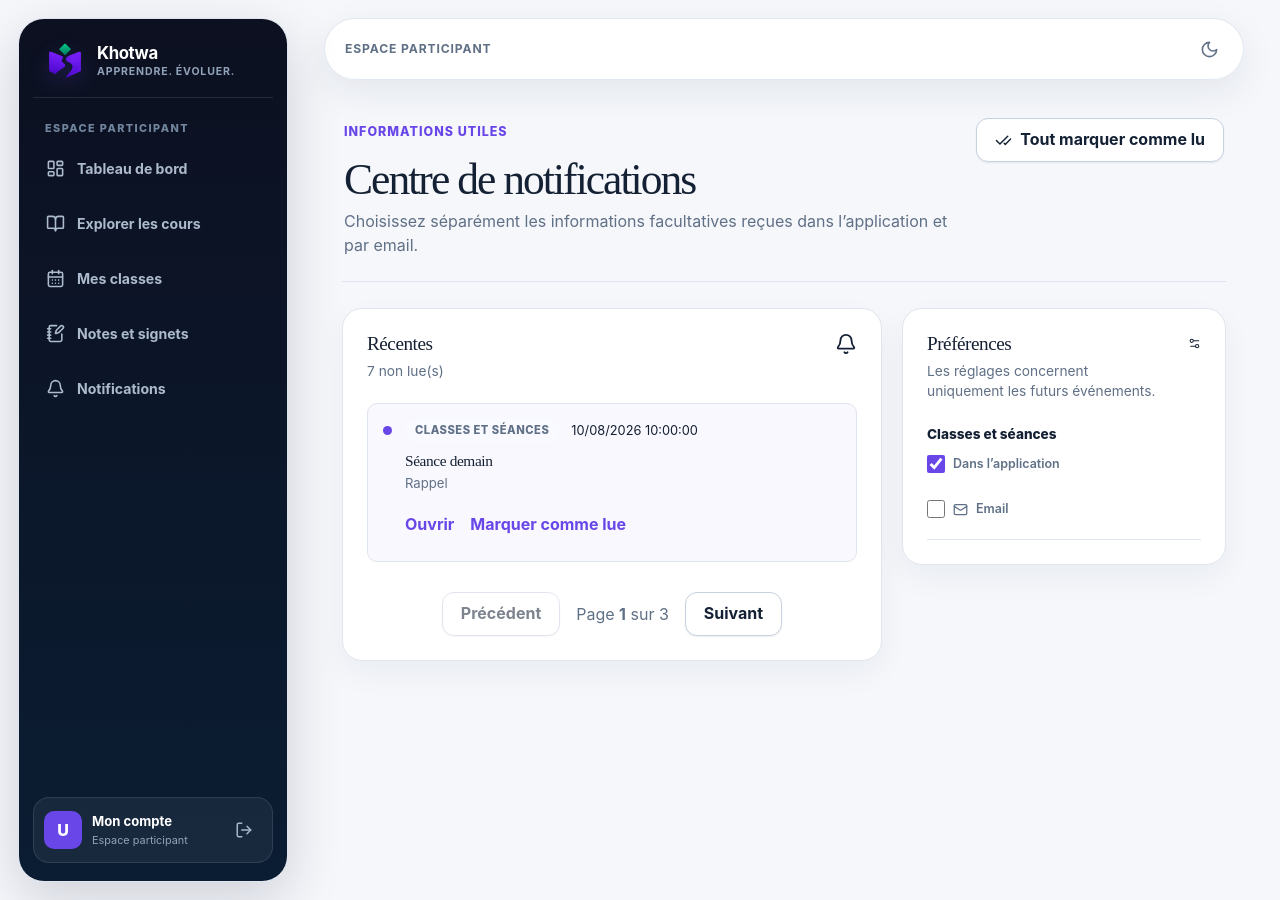
Test: centre de notifications › parcourt la page suivante, la dernière page et revient à la précédente
Click the button "Suivant". click: [733, 614]
box: x1=685 y1=592 x2=782 y2=636
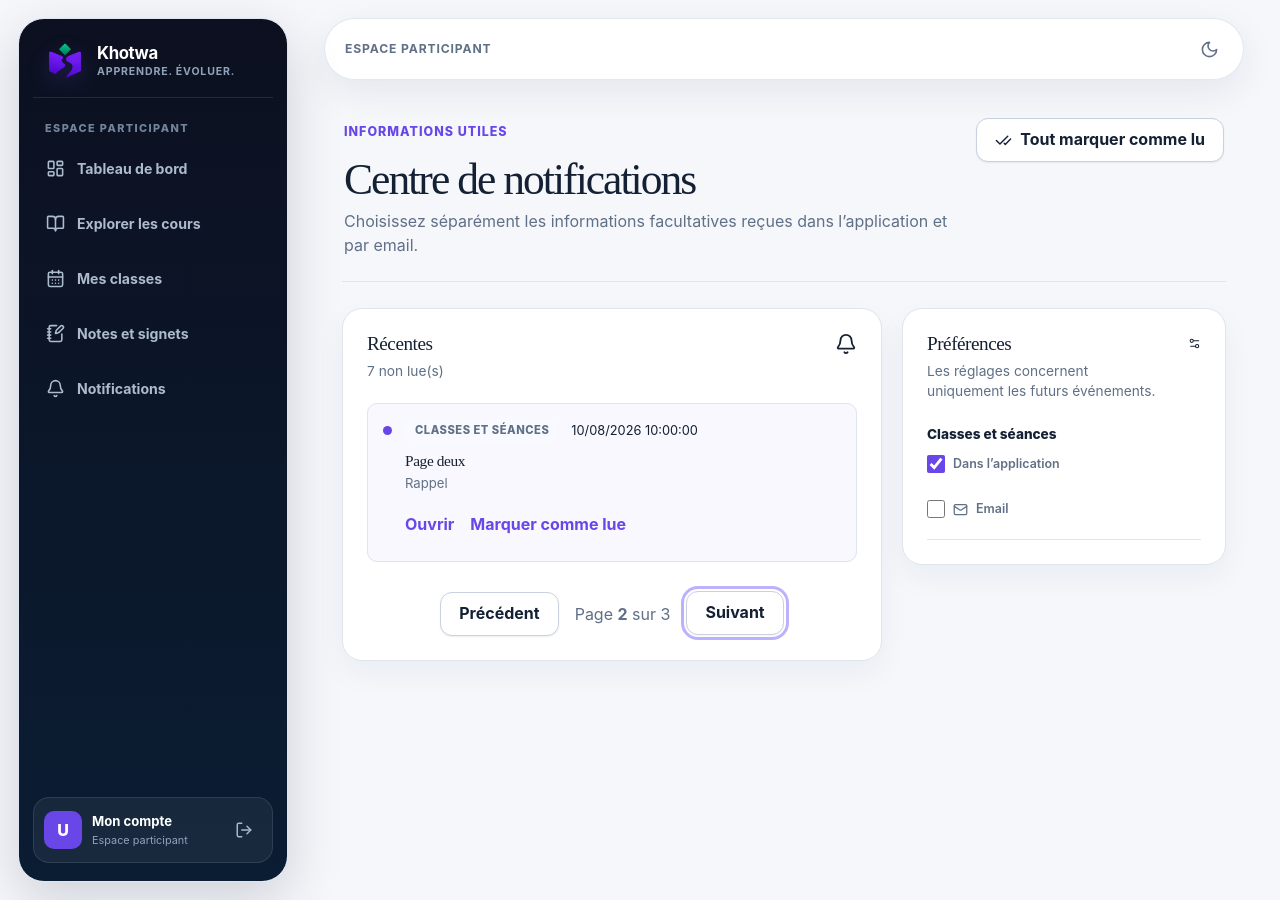
Expected: the text "7 non lue(s)" is shown, x1=367 y1=361 x2=444 y2=381
Result: the heading "Page deux" is shown at x1=405 y1=452 x2=465 y2=469
Click the button "Suivant". click: [735, 613]
box: x1=686 y1=591 x2=784 y2=635
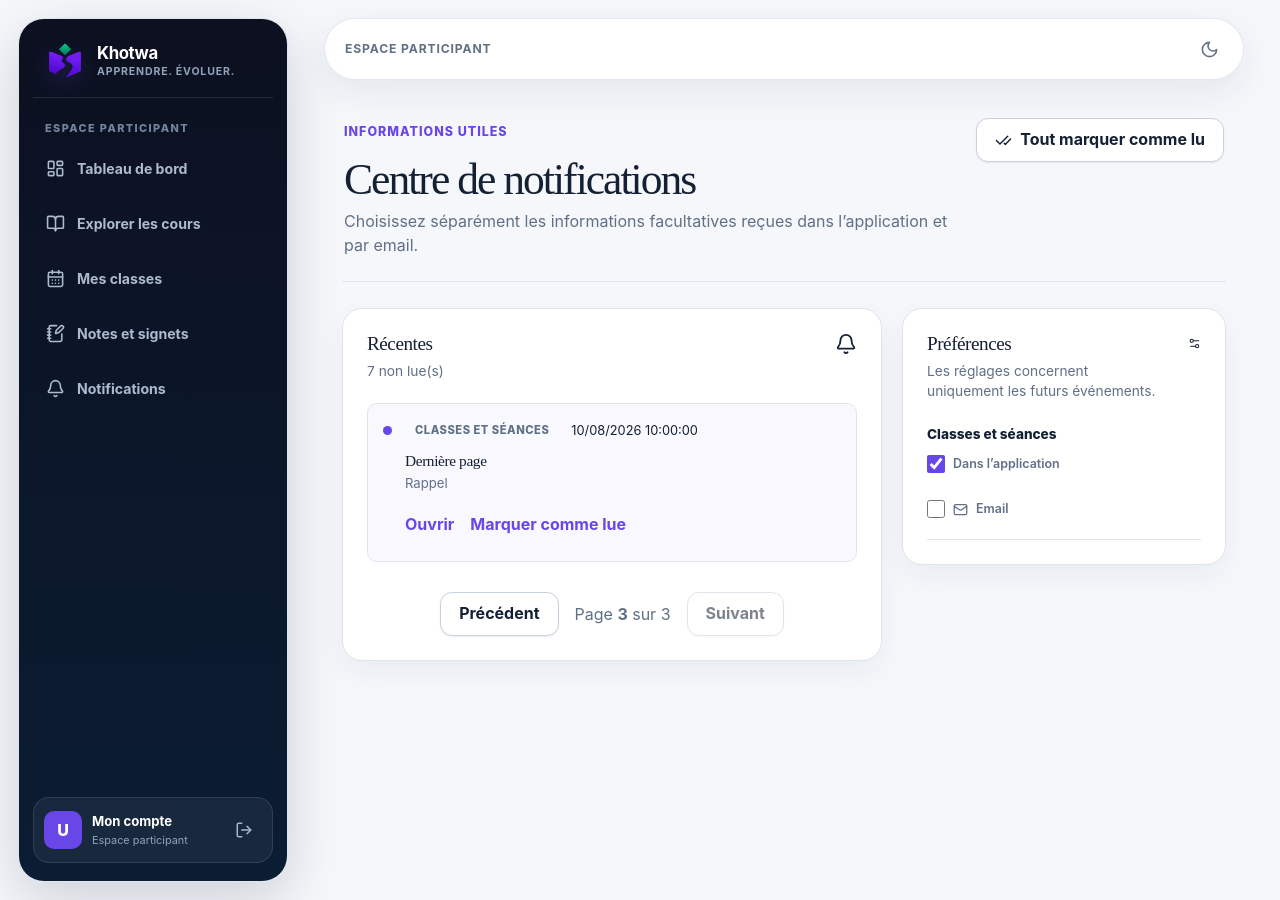
Result: the heading "Dernière page" is shown at x1=405 y1=452 x2=487 y2=469
Result: the button "Suivant" is disabled at x1=686 y1=592 x2=784 y2=636
Click the button "Précédent". click: [499, 614]
box: x1=440 y1=592 x2=558 y2=636
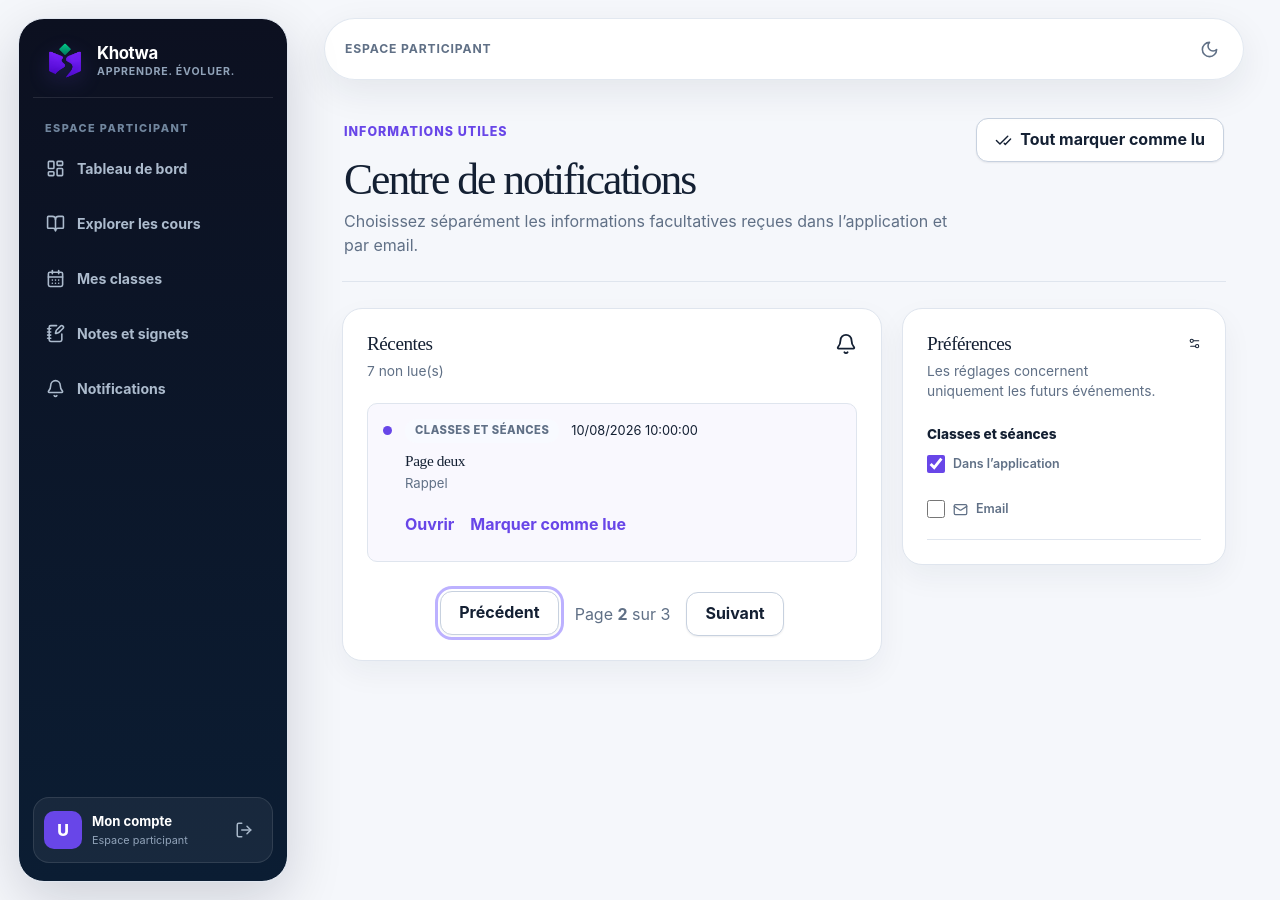
Result: the heading "Page deux" is shown at x1=405 y1=452 x2=465 y2=469
